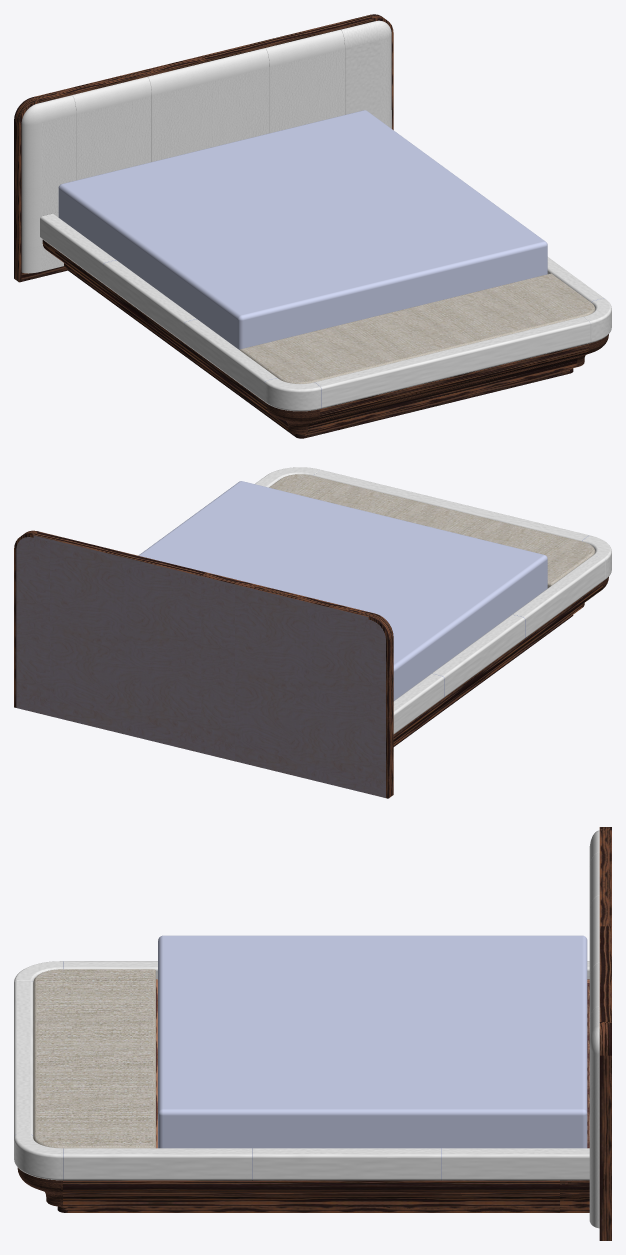
3 views of the same model, one above another, from view 1: azimuth 30°, elevation 25°; view 2: azimuth 150°, elevation 25°; view 3: azimuth 270°, elevation 25° (orthographic). The views are drawn at different scales.
Visible parts, largest first — view 1: 68-109 YATAK_YATAK GÖVDE_5_UST_5-1 - Parça, 68-109 YATAK_YATAK GÖVDE_DERİ1-1 - Parça 2, 68-109 BAŞLIK_ARKA_2_1-1 - Parça 2, 68-109 YATAK_YATAK GÖVDE_5_travers3_4_deri-1 - Parça 2, 68-109 YATAK_YATAK GÖVDE_travers_3-1 - Parça, 68-109 BAŞLIK_ARKA_2-1 - Parça 2, 68-109 BAŞLIK_ARKA_2-5 - Parça 2, 68-109 BAŞLIK_ON_1-1 - Parça, 68-109 BAŞLIK_ON_1-1 - Parça 2, 68-109 YATAK_YATAK GÖVDE_5_travers3_2_deri-1 - Parça 2, 68-109 YATAK_YATAK GÖVDE_5_travers3_3_deri-1 - Parça 2, 68-109 BAŞLIK_ARKA_2_1-1 - Parça (+15 smaller); view 2: 68-109 YATAK_YATAK GÖVDE_5_UST_5-1 - Parça, 68-109 BAŞLIK_ARKA_5-1 - Parça, 68-109 BAŞLIK_ARKA-1 - Parça, 68-109 YATAK_YATAK GÖVDE_DERİ1-1 - Parça 2, 68-109 YATAK_YATAK GÖVDE_5_travers3_3_deri-1 - Parça 2, 68-109 YATAK_YATAK GÖVDE_5_travers3_2_deri-1 - Parça 2, 68-109 YATAK_YATAK GÖVDE_travers_2-1 - Parça 4, 68-109 YATAK_YATAK GÖVDE_5_travers3_4_deri-1 - Parça 2, 68-109 YATAK_YATAK GÖVDE_5_travers3_1_deri-1 - Parça 2, 68-109 BAŞLIK_YAN-1 - Parça 3, 68-109 BAŞLIK_ALT-1 - Parça 4, 68-109 BAŞLIK_UST-1 - Parça 3 (+6 smaller); view 3: 68-109 YATAK_YATAK GÖVDE_5_UST_5-1 - Parça, 68-109 YATAK_YATAK GÖVDE_DERİ1-1 - Parça 2, 68-109 YATAK_YATAK GÖVDE_travers_5-1 - Parça 4, 68-109 YATAK_YATAK GÖVDE_5_travers3_6_deri-1 - Parça 2, 68-109 YATAK_YATAK GÖVDE_5_travers3_7_deri-1 - Parça 2, 68-109 YATAK_YATAK GÖVDE_5_travers3_5_deri-1 - Parça 2, 68-109 YATAK_YATAK GÖVDE_5_SAG_8-1 - Parça 2, 68-109 YATAK_YATAK GÖVDE_5_travers3_4_deri-1 - Parça 2, 68-109 BAŞLIK_YAN2-1 - Parça 3, 68-109 BAŞLIK_MirrorBAŞLIK_ON_1-2 - Parça 3, 68-109 YATAK_TRAVERS köse_DERİ-2 - Parça, 68-109 YATAK_YATAK GÖVDE_DERİ1-1 - Parça (+6 smaller).
Part boxes in pixels (x1,y1,x2,y2): 68-109 YATAK_YATAK GÖVDE_5_UST_5-1 - Parça: [58, 110, 547, 349]; 68-109 YATAK_YATAK GÖVDE_DERİ1-1 - Parça 2: [243, 274, 592, 381]; 68-109 BAŞLIK_ARKA_2_1-1 - Parça 2: [152, 67, 269, 161]; 68-109 YATAK_YATAK GÖVDE_5_travers3_4_deri-1 - Parça 2: [315, 317, 590, 408]; 68-109 YATAK_YATAK GÖVDE_travers_3-1 - Parça: [308, 343, 588, 432]; 68-109 BAŞLIK_ARKA_2-1 - Parça 2: [76, 96, 151, 180]; 68-109 BAŞLIK_ARKA_2-5 - Parça 2: [270, 48, 344, 132]; 68-109 BAŞLIK_ON_1-1 - Parça: [21, 95, 76, 273]; 68-109 BAŞLIK_ON_1-1 - Parça 2: [41, 114, 75, 271]; 68-109 YATAK_YATAK GÖVDE_5_travers3_2_deri-1 - Parça 2: [103, 260, 196, 342]; 68-109 YATAK_YATAK GÖVDE_5_travers3_3_deri-1 - Parça 2: [184, 319, 276, 401]; 68-109 BAŞLIK_ARKA_2_1-1 - Parça: [148, 48, 269, 161]; 68-109 YATAK_YATAK GÖVDE_5_UST_5-1 - Parça: [138, 481, 547, 700]; 68-109 BAŞLIK_ARKA_5-1 - Parça: [16, 537, 201, 752]; 68-109 BAŞLIK_ARKA-1 - Parça: [201, 578, 385, 797]; 68-109 YATAK_YATAK GÖVDE_DERİ1-1 - Parça 2: [270, 474, 592, 582]; 68-109 YATAK_YATAK GÖVDE_5_travers3_3_deri-1 - Parça 2: [512, 555, 605, 638]; 68-109 YATAK_YATAK GÖVDE_5_travers3_2_deri-1 - Parça 2: [432, 614, 524, 697]; 68-109 YATAK_YATAK GÖVDE_travers_2-1 - Parça 4: [393, 582, 602, 745]; 68-109 YATAK_YATAK GÖVDE_5_travers3_4_deri-1 - Parça 2: [314, 470, 588, 541]; 68-109 YATAK_YATAK GÖVDE_5_travers3_1_deri-1 - Parça 2: [393, 673, 444, 734]; 68-109 BAŞLIK_YAN-1 - Parça 3: [369, 613, 393, 798]; 68-109 BAŞLIK_ALT-1 - Parça 4: [201, 572, 373, 616]; 68-109 BAŞLIK_UST-1 - Parça 3: [34, 531, 205, 575]; 68-109 YATAK_YATAK GÖVDE_5_UST_5-1 - Parça: [158, 935, 587, 1148]; 68-109 YATAK_YATAK GÖVDE_DERİ1-1 - Parça 2: [36, 969, 152, 1145]; 68-109 YATAK_YATAK GÖVDE_travers_5-1 - Parça 4: [63, 1180, 559, 1206]; 68-109 YATAK_YATAK GÖVDE_5_travers3_6_deri-1 - Parça 2: [252, 1148, 440, 1180]; 68-109 YATAK_YATAK GÖVDE_5_travers3_7_deri-1 - Parça 2: [63, 1148, 251, 1180]; 68-109 YATAK_YATAK GÖVDE_5_travers3_5_deri-1 - Parça 2: [441, 1148, 589, 1180]; 68-109 YATAK_YATAK GÖVDE_5_SAG_8-1 - Parça 2: [67, 1206, 559, 1212]; 68-109 YATAK_YATAK GÖVDE_5_travers3_4_deri-1 - Parça 2: [14, 981, 33, 1136]; 68-109 BAŞLIK_YAN2-1 - Parça 3: [599, 1022, 611, 1240]; 68-109 BAŞLIK_MirrorBAŞLIK_ON_1-2 - Parça 3: [589, 1006, 599, 1227]; 68-109 YATAK_TRAVERS köse_DERİ-2 - Parça: [14, 1134, 62, 1180]; 68-109 YATAK_YATAK GÖVDE_DERİ1-1 - Parça: [33, 969, 155, 1148].
Bounding box in the file's own units: 2.48 × 1.12 × 2.93.
435 materials, 316 textured.
